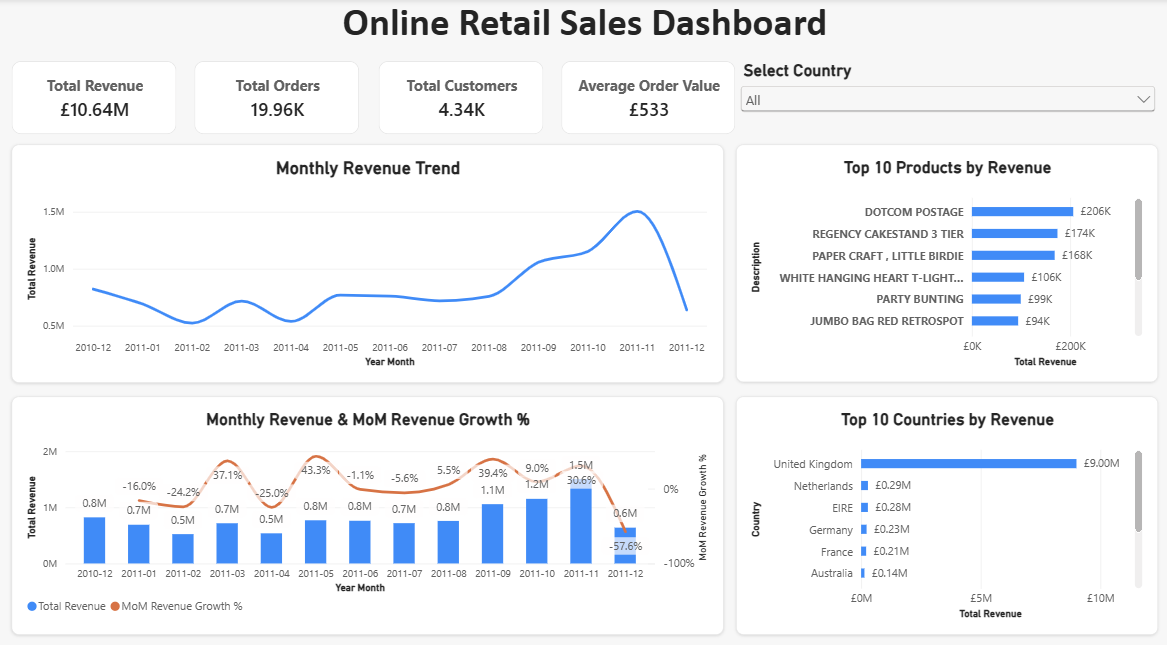

What the dashboard file says about the page in this screenshot:
{"tool":"powerbi","page":{"name":"Online Retail Sales","canvas":[1280,720],"ordinal":0},"visuals":[{"type":"cardVisual","fields":{"Data":["online_retail_cleaned.Total Revenue"]},"box":[13.8,68.8,180,80],"z":0},{"type":"cardVisual","fields":{"Data":["online_retail_cleaned.Total Orders"]},"box":[213.9,68.8,180,80],"z":1000},{"type":"cardVisual","fields":{"Data":["online_retail_cleaned.Total Customers"]},"box":[414.1,68.8,180,80],"z":2000},{"type":"cardVisual","fields":{"Data":["online_retail_cleaned.Average Order Value"]},"box":[614.2,68.8,190,80],"z":3000},{"type":"lineChart","title":"Monthly Revenue Trend","fields":{"Category":["DateTable.Year Month"],"Y":["online_retail_cleaned.Total Revenue"]},"box":[13.8,160,777.7,260],"z":4000},{"type":"lineClusteredColumnComboChart","title":"Monthly Revenue & MoM Revenue Growth %","fields":{"Category":["DateTable.Year Month"],"Y":["online_retail_cleaned.Total Revenue"],"Y2":["online_retail_cleaned.MoM Revenue Growth %"]},"box":[13.8,435.3,777.7,260],"z":5000},{"type":"clusteredBarChart","title":"Top 10 Products by  Revenue","fields":{"Category":["online_retail_cleaned.Description"],"Y":["online_retail_cleaned.Total Revenue"]},"box":[805.2,160,461.1,259.8],"z":6000},{"type":"clusteredBarChart","title":"Top 10 Countries by  Revenue","fields":{"Category":["online_retail_cleaned.Country"],"Y":["online_retail_cleaned.Total Revenue"]},"box":[805.2,435.3,461.1,260],"z":7000},{"type":"slicer","fields":{"Values":["online_retail_cleaned.Country"]},"box":[805.2,68.8,462.8,80],"z":8000},{"type":"textbox","box":[13.8,0,1252.6,68.8],"z":8002}]}

Visuals, with their boxes in screenshot pixels (x1, y1, x2, y2), scaled from the page's 1280x720 canvas onto the 1167x645 screenshot:
cardVisual - online_retail_cleaned.Total Revenue: bbox(13, 62, 177, 133)
cardVisual - online_retail_cleaned.Total Orders: bbox(195, 62, 359, 133)
cardVisual - online_retail_cleaned.Total Customers: bbox(378, 62, 542, 133)
cardVisual - online_retail_cleaned.Average Order Value: bbox(560, 62, 733, 133)
"Monthly Revenue Trend" lineChart: bbox(13, 143, 722, 376)
"Monthly Revenue & MoM Revenue Growth %" lineClusteredColumnComboChart: bbox(13, 390, 722, 623)
"Top 10 Products by  Revenue" clusteredBarChart: bbox(734, 143, 1155, 376)
"Top 10 Countries by  Revenue" clusteredBarChart: bbox(734, 390, 1155, 623)
slicer - online_retail_cleaned.Country: bbox(734, 62, 1156, 133)
textbox: bbox(13, 0, 1155, 62)
